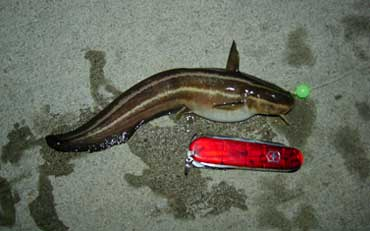gonzui: (42, 56, 320, 154)
